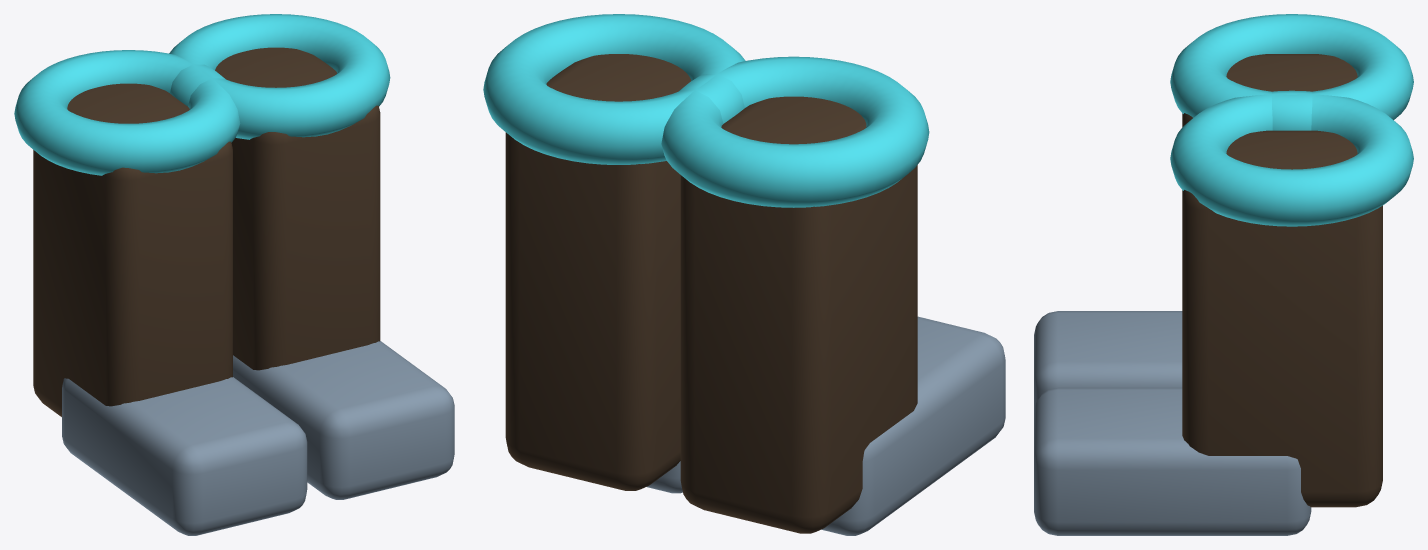
Rendered from boots_v3.glb.
3 views of the same model, side by side, from view 1: azimuth 30°, elevation 25°; view 2: azimuth 150°, elevation 25°; view 3: azimuth 270°, elevation 25° (orthographic). The views are drawn at different scales.
Visible parts, largest first — view 1: FUR_BOOT_SECONDARY, FUR_BOOT_SECONDARY.001, FUR_BOOT_FOOT_PRIMARY, FUR_BOOT_FOOT_PRIMARY.001, FUR_CUFF_ACCENT, FUR_CUFF_ACCENT.001; view 2: FUR_BOOT_SECONDARY, FUR_BOOT_SECONDARY.001, FUR_CUFF_ACCENT, FUR_CUFF_ACCENT.001, FUR_BOOT_FOOT_PRIMARY; view 3: FUR_BOOT_SECONDARY.001, FUR_BOOT_FOOT_PRIMARY.001, FUR_CUFF_ACCENT.001, FUR_CUFF_ACCENT, FUR_BOOT_FOOT_PRIMARY, FUR_BOOT_SECONDARY.
Boxes of the visible parts, x1,y1,x2,y2 form: FUR_BOOT_SECONDARY: [33, 83, 232, 416]; FUR_BOOT_SECONDARY.001: [215, 47, 380, 370]; FUR_BOOT_FOOT_PRIMARY: [62, 377, 307, 535]; FUR_BOOT_FOOT_PRIMARY.001: [233, 341, 454, 499]; FUR_CUFF_ACCENT: [14, 50, 240, 175]; FUR_CUFF_ACCENT.001: [169, 14, 390, 139]; FUR_BOOT_SECONDARY: [680, 96, 917, 533]; FUR_BOOT_SECONDARY.001: [505, 54, 690, 490]; FUR_CUFF_ACCENT: [661, 56, 929, 207]; FUR_CUFF_ACCENT.001: [483, 14, 745, 164]; FUR_BOOT_FOOT_PRIMARY: [821, 316, 1005, 535]; FUR_BOOT_SECONDARY.001: [1182, 130, 1382, 507]; FUR_BOOT_FOOT_PRIMARY.001: [1034, 387, 1311, 535]; FUR_CUFF_ACCENT.001: [1170, 90, 1413, 226]; FUR_CUFF_ACCENT: [1170, 14, 1413, 130]; FUR_BOOT_FOOT_PRIMARY: [1034, 311, 1182, 410]; FUR_BOOT_SECONDARY: [1182, 54, 1357, 126].
Bounding box in the file's own units: 1.78 × 1.74 × 1.59.
